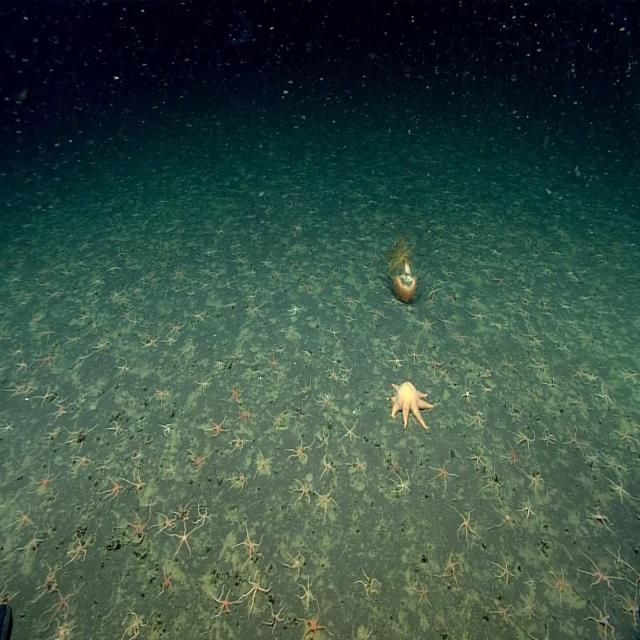brittle-stars: (579, 551, 616, 592), (48, 582, 79, 624), (586, 598, 615, 638), (240, 576, 269, 612), (125, 510, 152, 545), (238, 526, 264, 562), (454, 507, 479, 543), (300, 609, 329, 640), (31, 462, 58, 495), (37, 562, 62, 595), (547, 566, 571, 600), (176, 524, 198, 560), (492, 502, 516, 535), (213, 586, 237, 617), (21, 527, 45, 558), (123, 610, 147, 640), (442, 550, 462, 586), (355, 567, 378, 598), (431, 459, 456, 486), (0, 578, 27, 603), (68, 535, 90, 564), (564, 427, 586, 456), (607, 477, 631, 503), (588, 507, 612, 533), (66, 427, 92, 451), (314, 484, 335, 512), (622, 592, 640, 624), (290, 438, 313, 463), (268, 363, 293, 386), (487, 316, 512, 339), (462, 250, 485, 275), (492, 596, 514, 622), (12, 507, 34, 533), (413, 577, 432, 607), (492, 557, 513, 584), (267, 605, 288, 632), (615, 426, 638, 450), (514, 428, 536, 452), (206, 414, 228, 438), (104, 478, 126, 502), (283, 551, 304, 576), (286, 240, 312, 260), (624, 561, 640, 593), (92, 455, 114, 478), (187, 449, 208, 473), (48, 622, 76, 640), (605, 457, 630, 477), (294, 479, 313, 505), (256, 450, 274, 477), (156, 513, 178, 535), (226, 342, 247, 365), (236, 404, 255, 428), (501, 444, 520, 468), (484, 469, 503, 493), (231, 466, 249, 491), (520, 499, 538, 524), (513, 308, 535, 328), (383, 326, 403, 348), (577, 284, 596, 307), (299, 581, 316, 606), (36, 351, 58, 370), (229, 248, 249, 268), (468, 410, 489, 429), (129, 472, 147, 494), (272, 408, 288, 432), (522, 596, 538, 620), (75, 300, 91, 324), (316, 390, 335, 410), (392, 474, 410, 495), (161, 569, 175, 595), (364, 273, 383, 292), (529, 332, 548, 351), (37, 384, 55, 404), (622, 366, 640, 386), (111, 246, 131, 264), (402, 298, 420, 318), (468, 447, 484, 469), (197, 505, 211, 530), (568, 363, 586, 382), (532, 356, 551, 374), (342, 421, 359, 441), (232, 431, 249, 451), (223, 294, 240, 314), (595, 382, 611, 403), (74, 454, 92, 472), (460, 383, 476, 403), (570, 390, 586, 410), (292, 405, 308, 425), (176, 503, 192, 523), (524, 628, 550, 640), (54, 402, 71, 420), (38, 324, 56, 341), (527, 469, 543, 488), (351, 457, 367, 476), (108, 419, 124, 438), (182, 339, 198, 358), (7, 378, 26, 394), (211, 355, 227, 374), (409, 345, 424, 365), (143, 335, 160, 352), (155, 387, 172, 404), (451, 329, 468, 346), (196, 377, 212, 395), (171, 316, 187, 334), (228, 384, 243, 403), (539, 427, 553, 447), (89, 316, 103, 336), (427, 234, 448, 247), (439, 312, 456, 328), (44, 424, 61, 440), (388, 456, 403, 474), (352, 628, 374, 640), (321, 456, 334, 476), (420, 316, 436, 332), (467, 309, 484, 324), (502, 354, 516, 372), (13, 358, 28, 374), (8, 345, 24, 360), (300, 380, 312, 400), (384, 293, 400, 308), (563, 317, 579, 332), (28, 311, 43, 327), (91, 341, 108, 355), (164, 460, 178, 477), (480, 361, 494, 378), (0, 418, 14, 435), (116, 357, 129, 375), (428, 356, 443, 371), (557, 342, 572, 357), (161, 422, 175, 438), (287, 303, 303, 317), (371, 304, 385, 320), (526, 572, 537, 592), (318, 430, 330, 448), (110, 284, 122, 302), (41, 527, 53, 545), (389, 352, 403, 367), (491, 273, 506, 287), (47, 287, 62, 301), (558, 300, 573, 314), (481, 382, 495, 397), (92, 274, 106, 288), (164, 334, 178, 348), (67, 333, 81, 347), (110, 264, 124, 278), (345, 293, 359, 307), (344, 312, 358, 326), (142, 313, 155, 328), (269, 353, 280, 370), (222, 278, 235, 292), (249, 304, 262, 318), (503, 298, 516, 312), (24, 382, 37, 396), (436, 276, 449, 289), (326, 367, 338, 381), (342, 362, 354, 376), (468, 291, 480, 305), (192, 310, 204, 324), (133, 282, 145, 296), (39, 266, 53, 278), (286, 323, 297, 338), (588, 451, 600, 464), (334, 282, 347, 294), (245, 290, 257, 303), (328, 326, 340, 339), (367, 249, 379, 262), (134, 447, 144, 462), (120, 307, 130, 322), (200, 280, 212, 292), (306, 271, 318, 283), (272, 268, 284, 280), (522, 284, 534, 296), (172, 269, 184, 281), (75, 255, 87, 267), (522, 294, 534, 306), (246, 208, 256, 222), (131, 314, 141, 328), (263, 256, 274, 268), (540, 266, 551, 278), (276, 344, 287, 356), (427, 286, 438, 298), (588, 372, 599, 384), (303, 282, 314, 294), (328, 268, 339, 280), (40, 279, 51, 290), (440, 366, 450, 378), (446, 268, 456, 280), (316, 300, 326, 312), (186, 286, 196, 298), (199, 266, 209, 277), (341, 376, 351, 387), (424, 297, 435, 307), (453, 233, 463, 244), (329, 355, 338, 367)
